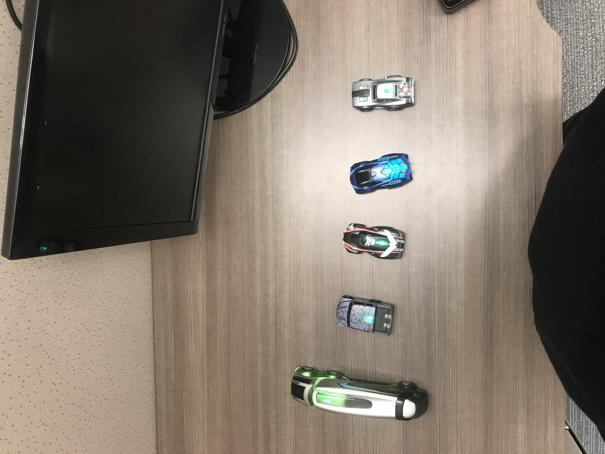Charger: (351, 75, 417, 112)
Freewheel: (291, 367, 431, 422)
MXT: (336, 294, 397, 336)
Shock: (348, 154, 415, 193)
Skull: (342, 223, 406, 260)
